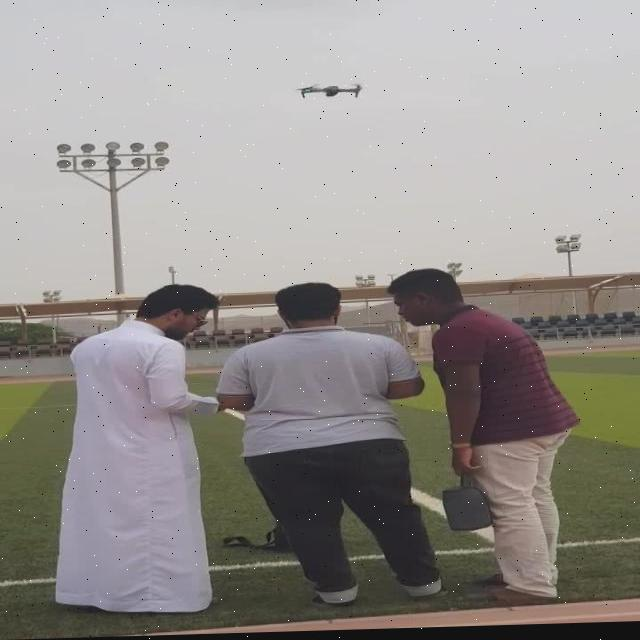drone: (294, 80, 366, 103)
